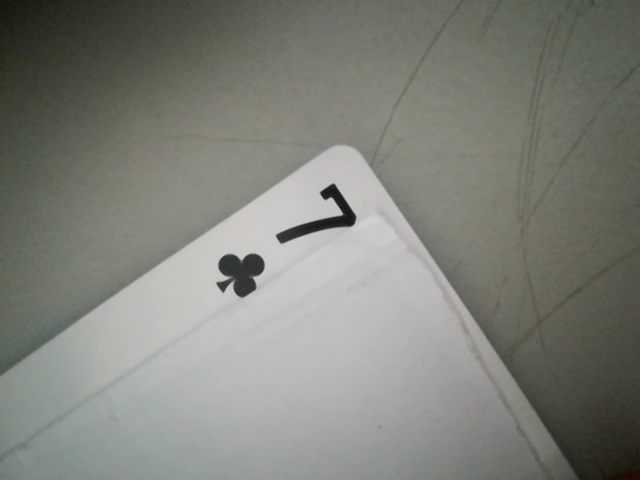mh 7: (184, 177, 389, 298)
